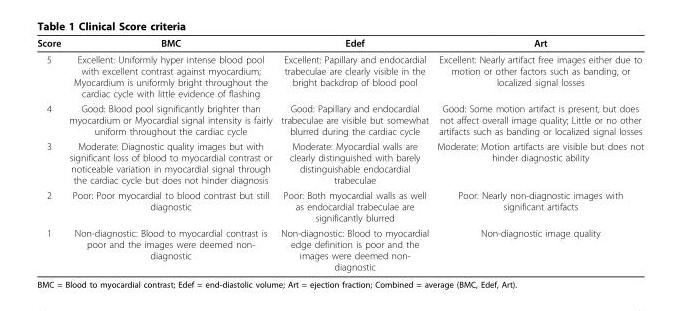table: (36, 36, 642, 272)
table column: (64, 36, 275, 272), (432, 36, 642, 272), (275, 36, 432, 272), (36, 36, 64, 272)
table column header: (36, 36, 642, 50)
table row: (36, 50, 642, 100), (36, 138, 642, 187), (36, 225, 642, 272), (36, 100, 642, 138), (36, 187, 642, 225), (36, 36, 642, 50)
